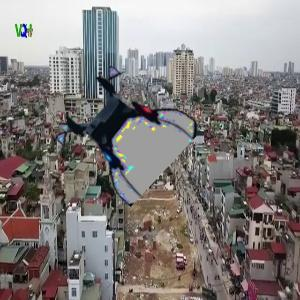drone: (63, 72, 182, 191)
